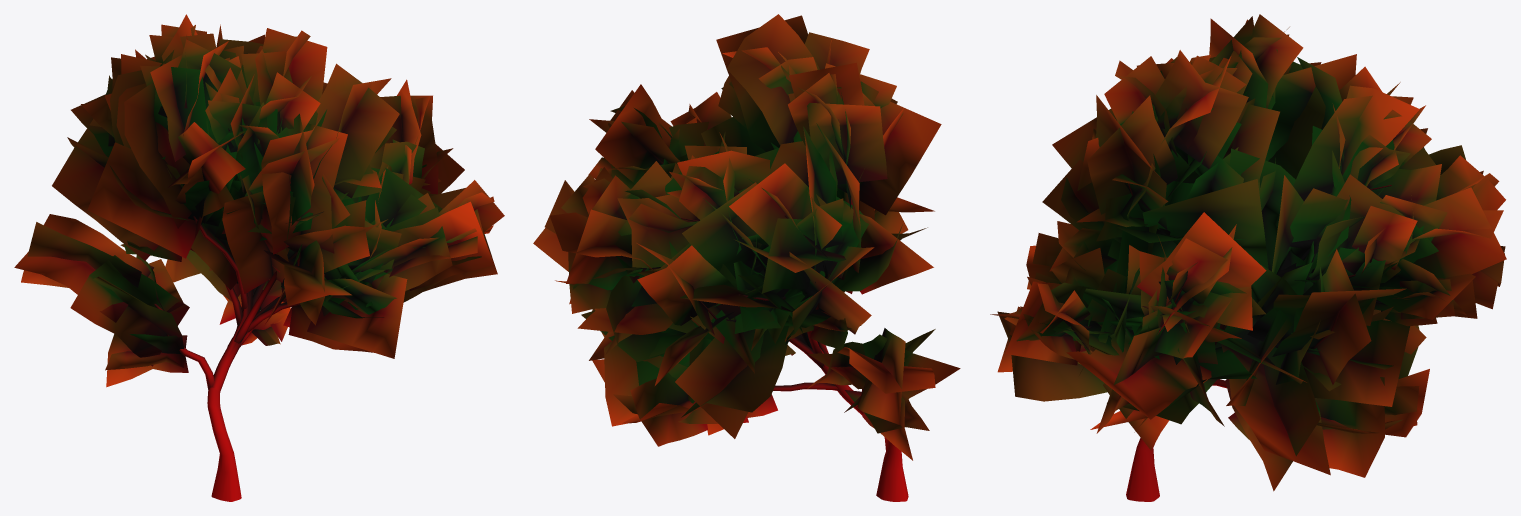
File: BTAWinter.fbx
3 renders of one model, left to right at view 1: azimuth 30°, elevation 25°; view 2: azimuth 150°, elevation 25°; view 3: azimuth 270°, elevation 25°, orthographic. The views are drawn at different scales.
Parts seen in each view (by area): view 1: BTAWinter_Leaves_LOD0, BTAWinter_Bark_LOD0; view 2: BTAWinter_Leaves_LOD0, BTAWinter_Bark_LOD0; view 3: BTAWinter_Leaves_LOD0, BTAWinter_Bark_LOD0.
Boxes of the visible parts, bbox=[...] form: BTAWinter_Leaves_LOD0: bbox=[14, 14, 504, 387]; BTAWinter_Bark_LOD0: bbox=[154, 164, 325, 501]; BTAWinter_Leaves_LOD0: bbox=[533, 14, 960, 460]; BTAWinter_Bark_LOD0: bbox=[657, 215, 908, 501]; BTAWinter_Leaves_LOD0: bbox=[990, 14, 1506, 491]; BTAWinter_Bark_LOD0: bbox=[1066, 108, 1391, 501].
Size of what is drawn, in the model's own units: 9.79 by 10.35 by 9.77.
